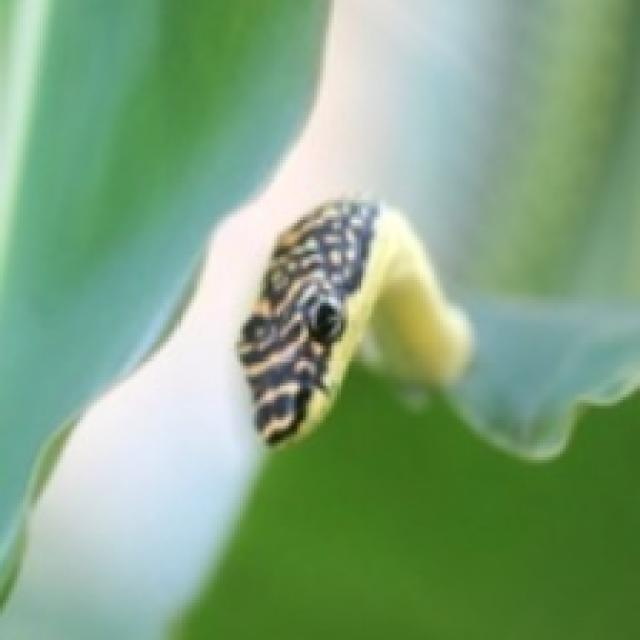paradise tree snake: (237, 200, 469, 443)
